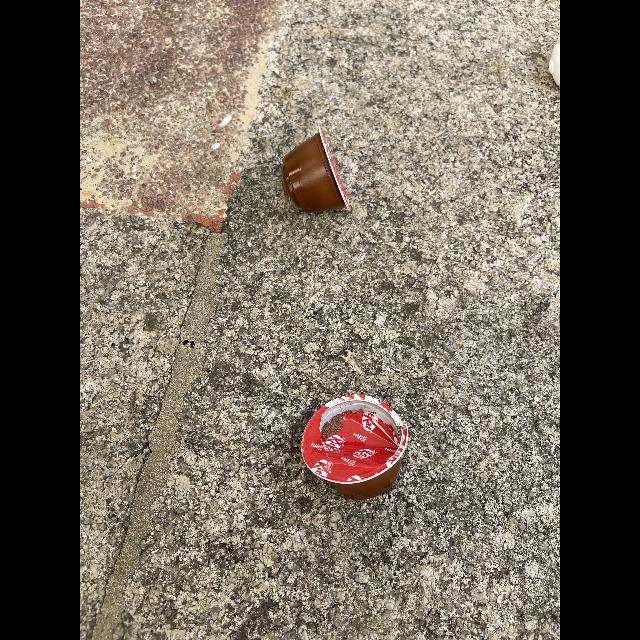damaged_capsule: (291, 387, 423, 507)
intact_capsule: (274, 128, 360, 228)
